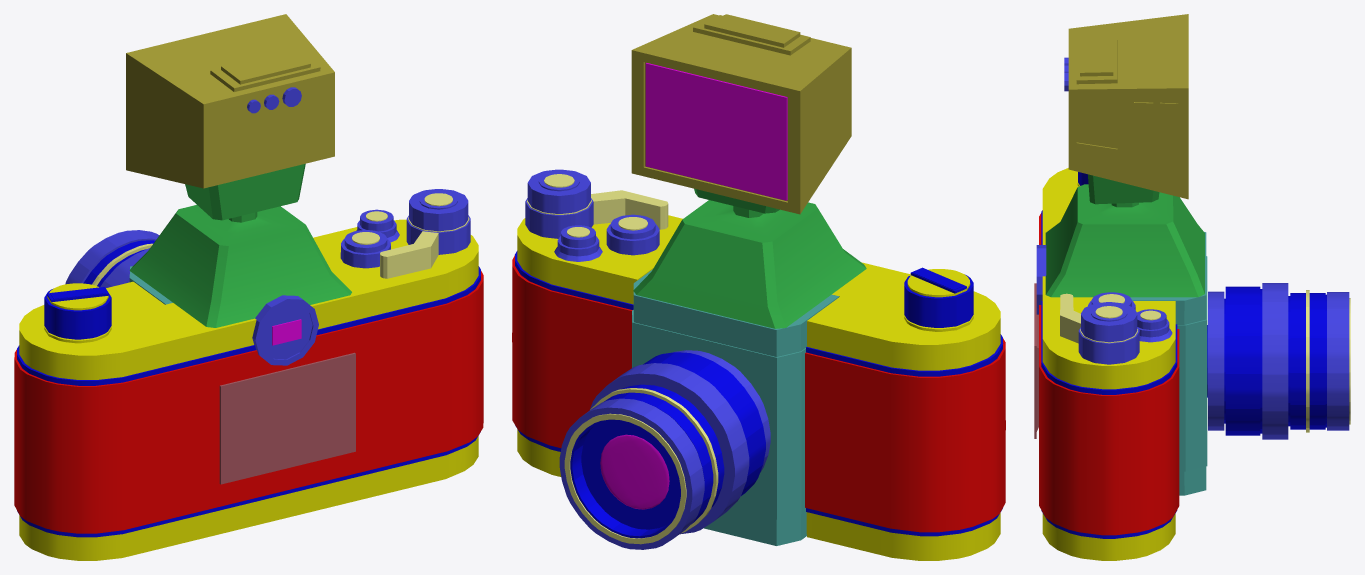
File: Camera.fbx
The picture shows the model from 3 angles, left to right: view 1: azimuth 30°, elevation 25°; view 2: azimuth 150°, elevation 25°; view 3: azimuth 270°, elevation 25°; orthographic projection. The views are drawn at different scales.
Parts seen in each view (by area): view 1: Main_Body, Flash, Body_Top, Screen, Clicker, Winder, polySurface4, View_Finder, Button1, Button, View_finder_window; view 2: Main_Body, Flash, polySurface4, Body_Top, Body_Front, Clicker, Winder, polySurface5, Button1, Button; view 3: Main_Body, polySurface4, Flash, Body_Top, Body_Front, Clicker, Button, Screen, View_Finder, Button1.
Part boxes in pixels (box(x1,y1,x2,y2)): Main_Body: box(14, 219, 483, 560); Flash: box(126, 14, 334, 188); Body_Top: box(129, 163, 351, 327); Screen: box(219, 352, 355, 484); Clicker: box(380, 189, 470, 278); Winder: box(44, 283, 111, 343); polySurface4: box(65, 230, 159, 287); View_Finder: box(252, 295, 318, 365); Button1: box(340, 230, 390, 268); Button: box(356, 209, 399, 242); View_finder_window: box(272, 319, 301, 345); Main_Body: box(512, 215, 1005, 560); Flash: box(631, 14, 851, 214); polySurface4: box(559, 350, 770, 549); Body_Top: box(633, 188, 866, 328); Body_Front: box(632, 269, 839, 545); Clicker: box(525, 169, 668, 238); Winder: box(904, 267, 973, 331); polySurface5: box(600, 434, 669, 509); Button1: box(606, 214, 659, 255); Button: box(554, 225, 602, 261); Main_Body: box(1039, 168, 1179, 560); polySurface4: box(1207, 283, 1350, 439); Flash: box(1068, 14, 1188, 199); Body_Top: box(1045, 174, 1204, 297); Body_Front: box(1130, 232, 1207, 495); Clicker: box(1060, 293, 1139, 364); Button: box(1137, 309, 1172, 342); Screen: box(1034, 283, 1038, 438); View_Finder: box(1036, 245, 1046, 314); Button1: box(1088, 292, 1135, 309).
Size of the model in its own units: 9 by 8.23 by 5.75.
